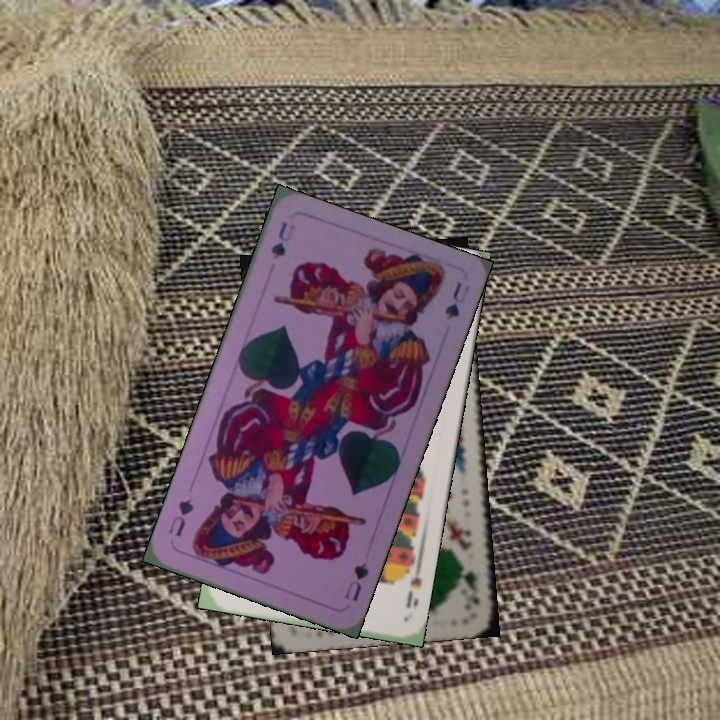GK: (458, 556, 482, 612)
GU: (341, 558, 372, 604), (267, 217, 298, 262)
S9: (398, 558, 425, 612)
